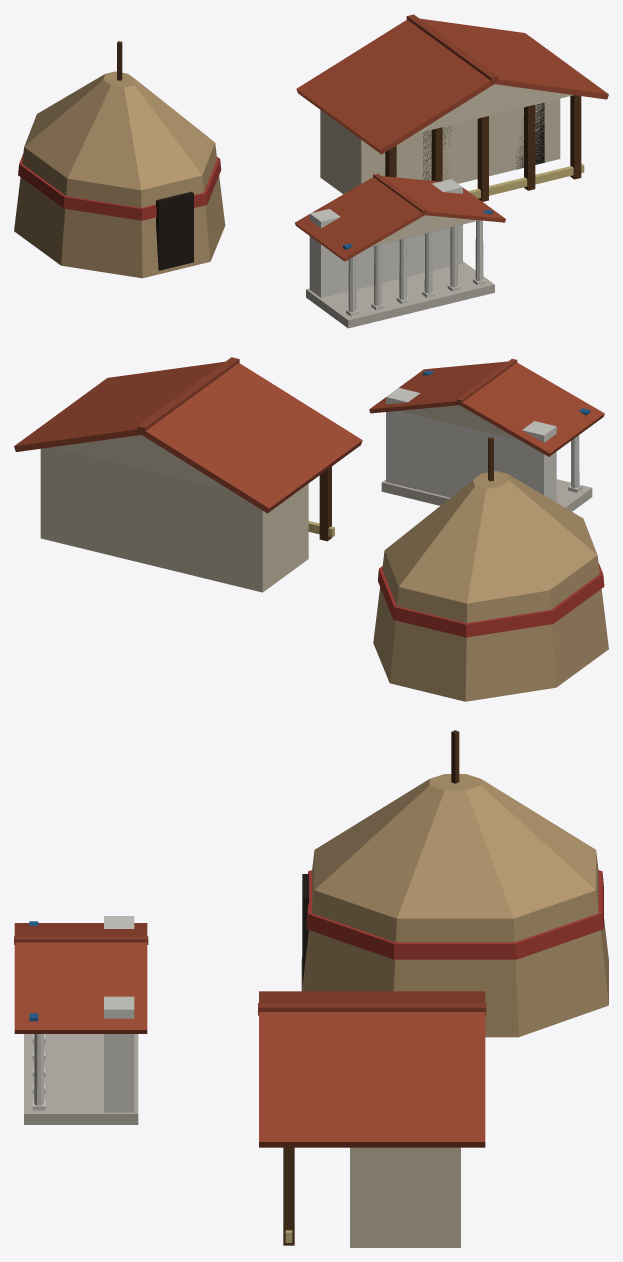
Rendered from centaur_compound.glb.
3 views of the same model, one above another, from view 1: azimuth 30°, elevation 25°; view 2: azimuth 150°, elevation 25°; view 3: azimuth 270°, elevation 25° (orthographic). The views are drawn at different scales.
Parts seen in each view (by area): view 1: centaur_compound; view 2: centaur_compound; view 3: centaur_compound.
Boxes of the visible parts, x1,y1,x2,y2 form: centaur_compound: (14, 14, 608, 328); centaur_compound: (14, 357, 608, 701); centaur_compound: (14, 730, 608, 1247).
Size of the model in its own units: 5.61 by 2 by 4.29.
